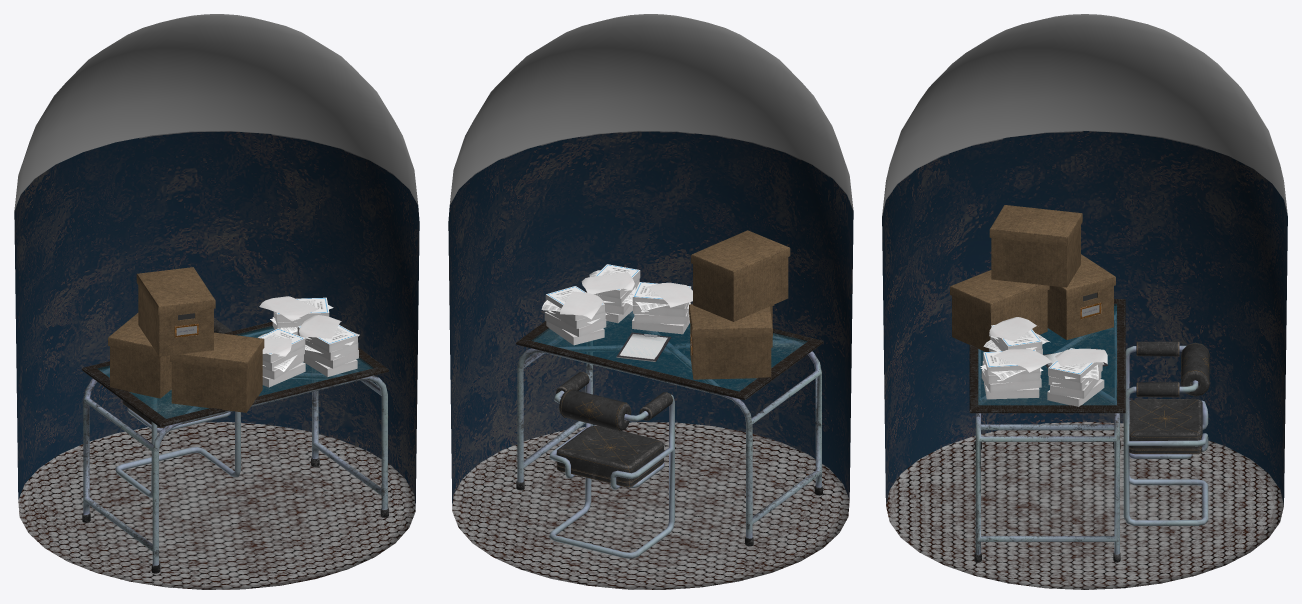
Rendered from modern_chair_and_table_post-apocalypse.glb.
The picture shows the model from 3 angles, left to right: view 1: azimuth 30°, elevation 25°; view 2: azimuth 150°, elevation 25°; view 3: azimuth 270°, elevation 25°; orthographic projection.
Parts seen in each view (by area): view 1: Sketchfab_capsule_Sketchfab_0, Table, Documents, Box.001, Box.002, Box, Chair; view 2: Sketchfab_capsule_Sketchfab_0, Table, Chair, Documents, Box.002, Box; view 3: Sketchfab_capsule_Sketchfab_0, Table, Chair, Documents, Box.002, Box.001, Box.
Boxes of the visible parts, bbox=[...] form: Sketchfab_capsule_Sketchfab_0: bbox=[14, 14, 419, 589]; Table: bbox=[82, 321, 389, 573]; Documents: bbox=[258, 296, 359, 387]; Box.001: bbox=[170, 332, 264, 412]; Box.002: bbox=[136, 267, 215, 356]; Box: bbox=[108, 313, 171, 398]; Chair: bbox=[115, 318, 240, 497]; Sketchfab_capsule_Sketchfab_0: bbox=[448, 14, 853, 589]; Table: bbox=[516, 291, 823, 546]; Chair: bbox=[549, 372, 674, 558]; Documents: bbox=[541, 264, 692, 361]; Box.002: bbox=[691, 230, 790, 321]; Box: bbox=[689, 304, 772, 379]; Sketchfab_capsule_Sketchfab_0: bbox=[882, 14, 1287, 589]; Table: bbox=[969, 299, 1125, 562]; Chair: bbox=[1123, 341, 1209, 525]; Documents: bbox=[980, 317, 1107, 406]; Box.002: bbox=[989, 205, 1082, 287]; Box.001: bbox=[950, 270, 1049, 351]; Box: bbox=[1047, 254, 1115, 339].
Size of the model in its own units: 2.14 by 2.75 by 2.14.
4 materials, 4 textured.
